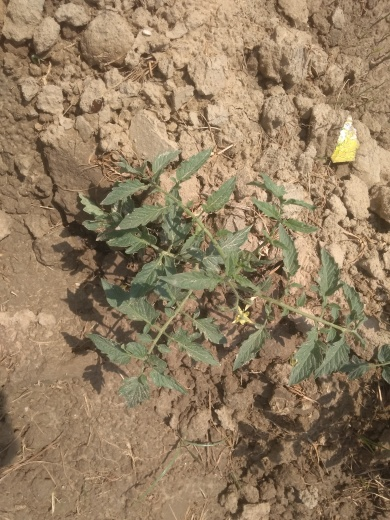tomato flower: (228, 301, 258, 331)
tomato plant: (111, 198, 390, 427)
